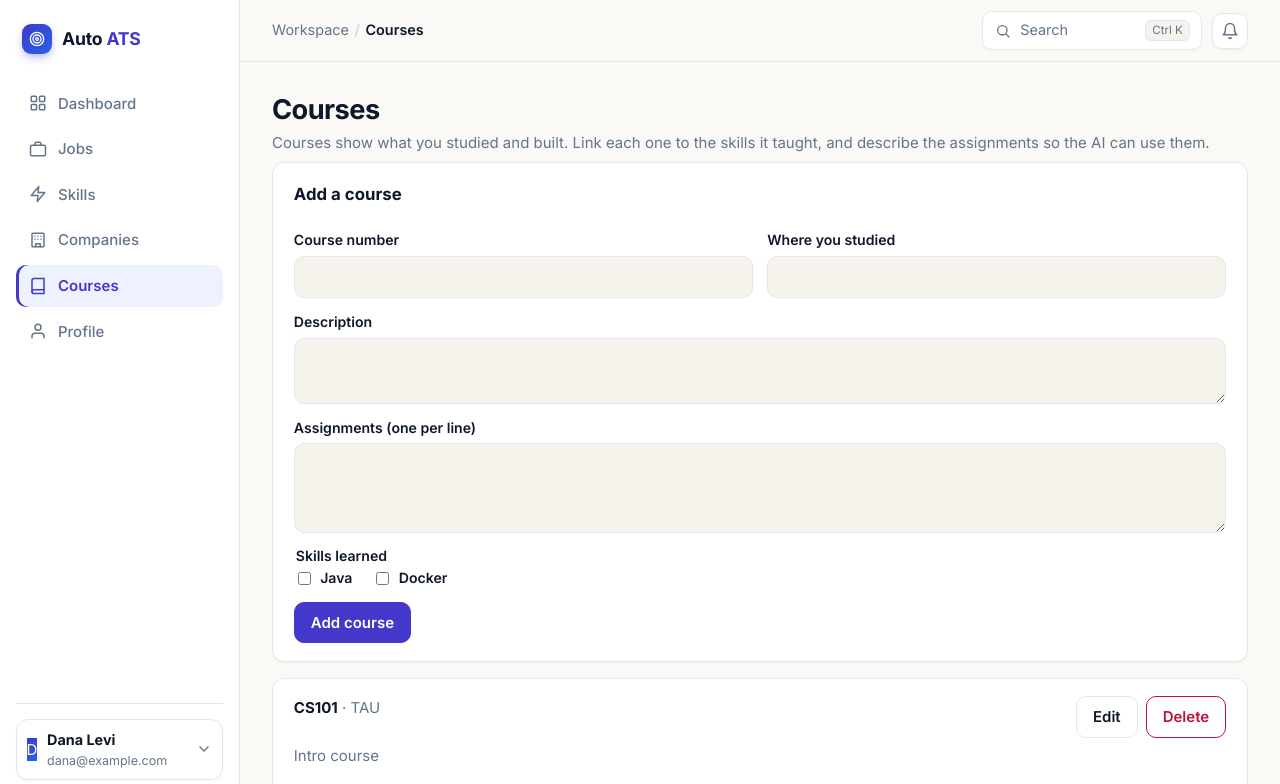
it: CoursesPage › GivenCourse_WhenClickingEdit_ThenFormIsPrefilledIncludingSkillsAndAssignments
This screenshot has width=1280, height=784.
Click the button with aria-label "Edit CS101" at (1107,717), box [1076, 696, 1138, 738]
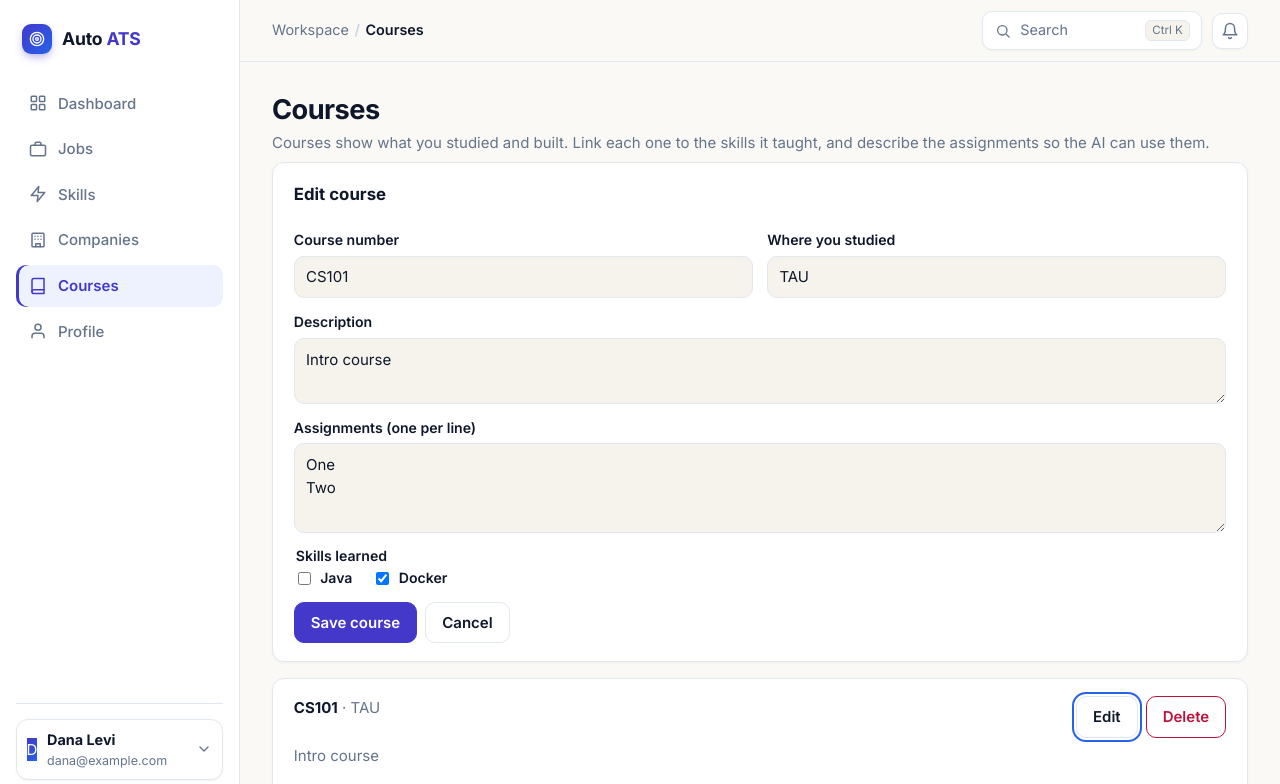
Check: the heading "Edit course" is shown, box [294, 184, 386, 204]
Check: the field labelled "Course number" holds "CS101", box [294, 256, 753, 298]
Check: the checkbox labelled "Docker" is checked, box [376, 572, 389, 585]
